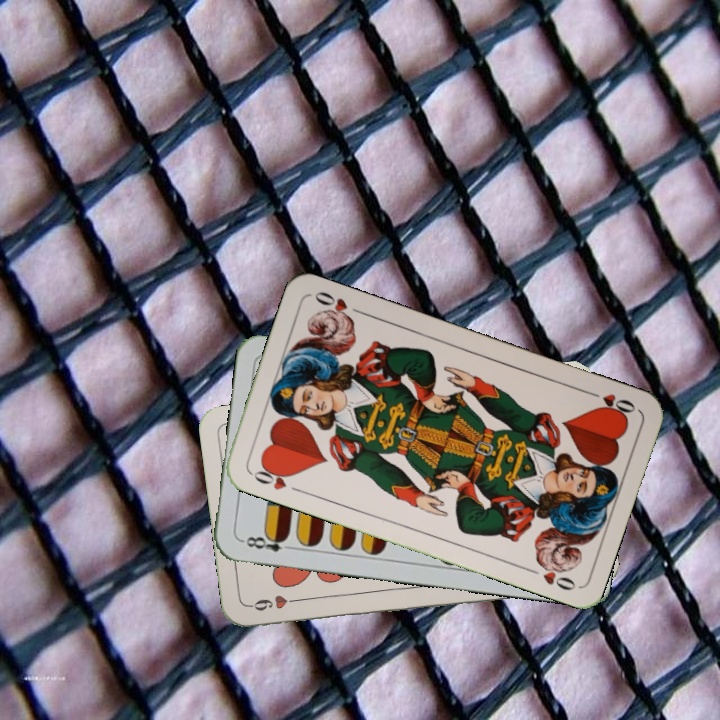E8: (237, 530, 296, 555)
H9: (246, 592, 305, 614)
HO: (247, 460, 304, 495), (582, 387, 638, 420)
